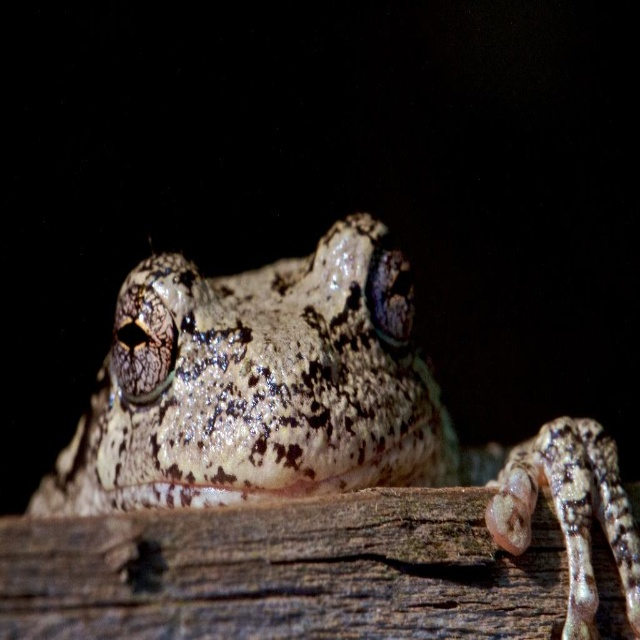Frog: (26, 211, 640, 640)
